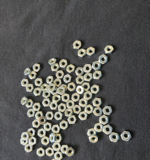nut: (121, 131, 132, 142), (110, 132, 120, 143), (45, 147, 55, 158), (103, 125, 114, 135), (78, 112, 89, 122), (87, 47, 97, 58), (91, 85, 101, 96), (92, 62, 104, 71), (66, 148, 76, 158), (99, 116, 109, 126), (94, 108, 104, 118), (99, 55, 109, 65), (68, 115, 78, 125), (75, 67, 85, 77), (102, 106, 113, 115), (66, 65, 77, 74), (36, 148, 45, 158), (34, 78, 44, 87), (60, 121, 69, 131), (59, 59, 69, 68), (93, 71, 103, 80), (93, 98, 103, 107), (84, 92, 94, 101), (44, 123, 53, 133), (41, 137, 50, 147), (38, 117, 47, 127), (71, 93, 81, 102), (83, 64, 93, 73), (63, 74, 72, 84), (104, 46, 115, 54), (86, 104, 94, 115), (78, 49, 86, 60), (73, 40, 82, 49), (95, 124, 104, 133), (52, 125, 61, 134), (58, 104, 67, 113), (54, 112, 63, 121), (33, 103, 42, 112), (82, 82, 91, 91), (33, 64, 42, 73), (42, 99, 51, 108), (56, 70, 65, 79), (59, 84, 68, 93), (89, 135, 99, 143), (73, 105, 81, 115), (80, 98, 88, 108), (29, 137, 37, 147), (85, 72, 93, 82), (68, 82, 76, 92), (51, 87, 59, 97), (52, 143, 62, 151), (25, 144, 33, 153), (21, 132, 29, 141), (38, 129, 46, 138), (88, 128, 97, 136), (55, 151, 63, 160), (61, 146, 70, 154), (65, 109, 73, 118), (67, 100, 75, 109), (28, 109, 36, 118), (32, 120, 41, 128), (20, 97, 28, 106), (25, 100, 34, 108), (75, 86, 84, 94), (77, 76, 85, 85), (62, 94, 70, 103), (42, 91, 51, 99), (35, 79, 44, 87), (33, 89, 42, 97), (52, 95, 61, 103), (48, 84, 57, 92), (54, 79, 63, 87), (58, 86, 65, 96), (21, 79, 29, 87), (46, 112, 54, 120), (36, 111, 44, 119), (25, 84, 33, 92), (46, 76, 54, 84), (51, 64, 59, 72), (55, 134, 62, 143), (21, 138, 28, 147), (49, 103, 58, 110), (28, 129, 35, 137), (29, 73, 37, 80), (50, 134, 56, 143), (24, 69, 31, 76), (41, 84, 48, 91), (49, 59, 57, 64), (50, 159, 59, 160)
